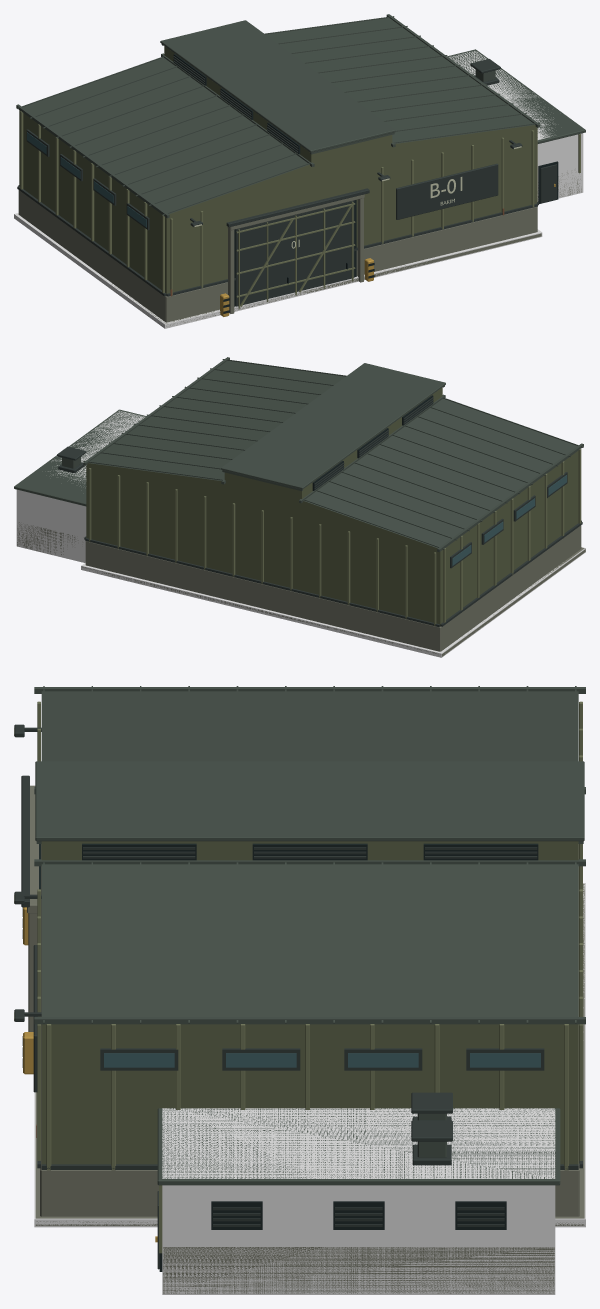
File: maintenance_hangar_01.glb
3 views of the same model, one above another, from view 1: azimuth 30°, elevation 25°; view 2: azimuth 150°, elevation 25°; view 3: azimuth 270°, elevation 25° (orthographic). The views are drawn at different scales.
Parts seen in each view (by area): view 1: ClosedMainVolume, MH01_Roof_Geometry, MH01_GraphiteSteel_Geometry, MH01_Concrete_Geometry, MH01_PanelHighlight_Geometry, COL_Service, COL_Plinth, MH01_Recess_Geometry, MH01_SmokedGlass_Geometry; view 2: ClosedMainVolume, MH01_Roof_Geometry, MH01_Concrete_Geometry, COL_Service, MH01_PanelHighlight_Geometry, MH01_GraphiteSteel_Geometry, COL_Plinth, MH01_Recess_Geometry, MH01_SmokedGlass_Geometry; view 3: ClosedMainVolume, MH01_Roof_Geometry, COL_Service, MH01_Concrete_Geometry, MH01_GraphiteSteel_Geometry, MH01_PanelHighlight_Geometry, MH01_Recess_Geometry, MH01_SmokedGlass_Geometry, COL_Plinth.
Part boxes in pixels (x1,y1,x2,y2): ClosedMainVolume: (19,18,536,293); MH01_Roof_Geometry: (16,14,585,218); MH01_GraphiteSteel_Geometry: (17,56,556,306); MH01_Concrete_Geometry: (18,172,581,326); MH01_PanelHighlight_Geometry: (20,111,580,308); COL_Service: (449,51,583,201); COL_Plinth: (14,213,542,328); MH01_Recess_Geometry: (173,54,558,313); MH01_SmokedGlass_Geometry: (27,132,146,227); ClosedMainVolume: (86,360,578,626); MH01_Roof_Geometry: (14,357,583,551); MH01_Concrete_Geometry: (17,522,585,656); COL_Service: (16,410,144,562); MH01_PanelHighlight_Geometry: (89,449,581,625); MH01_GraphiteSteel_Geometry: (57,397,582,626); COL_Plinth: (81,547,585,657); MH01_Recess_Geometry: (312,395,433,490); MH01_SmokedGlass_Geometry: (452,475,566,565); ClosedMainVolume: (41,691,578,1164); MH01_Roof_Geometry: (34,686,585,1185); COL_Service: (162,1108,555,1294); MH01_Concrete_Geometry: (27,785,584,1293); MH01_GraphiteSteel_Geometry: (14,724,582,1269); MH01_PanelHighlight_Geometry: (37,701,582,1253); MH01_Recess_Geometry: (22,843,538,1271); MH01_SmokedGlass_Geometry: (104,1053,540,1067); COL_Plinth: (34,883,585,1227).
Bounding box in the file's own units: 39.32 × 11.74 × 23.43.
